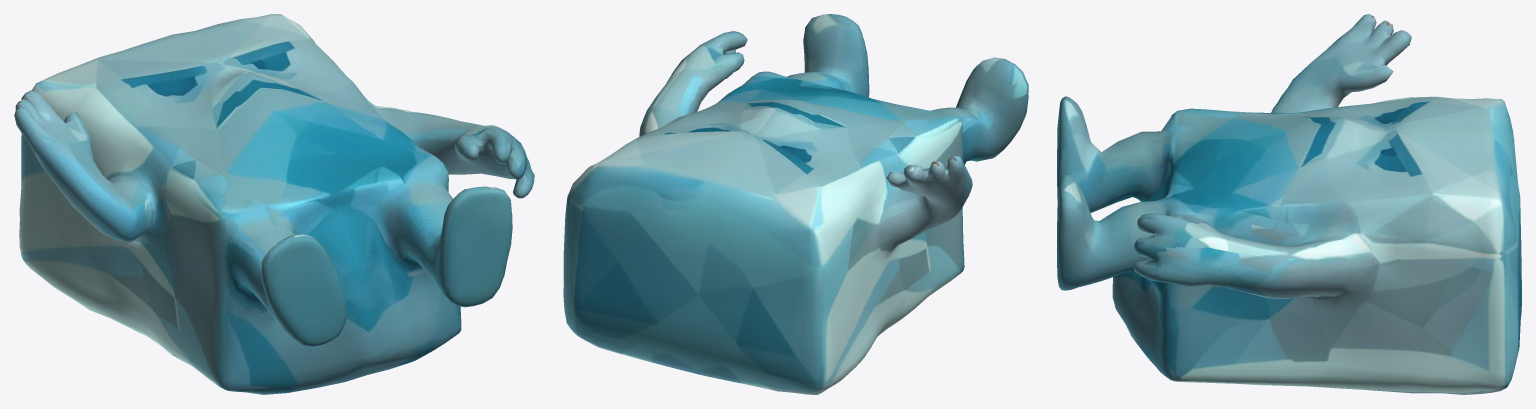
File: Nurikabe2.glb
The picture shows the model from 3 angles, left to right: view 1: azimuth 30°, elevation 25°; view 2: azimuth 150°, elevation 25°; view 3: azimuth 270°, elevation 25°; orthographic projection. The views are drawn at different scales.
Visible parts, largest first — view 1: Retopo_nurikabe2.001; view 2: Retopo_nurikabe2.001; view 3: Retopo_nurikabe2.001.
Part boxes in pixels (bbox=[...]): Retopo_nurikabe2.001: bbox=[14, 14, 534, 394]; Retopo_nurikabe2.001: bbox=[563, 14, 1028, 394]; Retopo_nurikabe2.001: bbox=[1057, 14, 1521, 394].
Size of the model in its own units: 1.88 by 1.07 by 1.95.
Materials: 1 (1 with a texture image).
